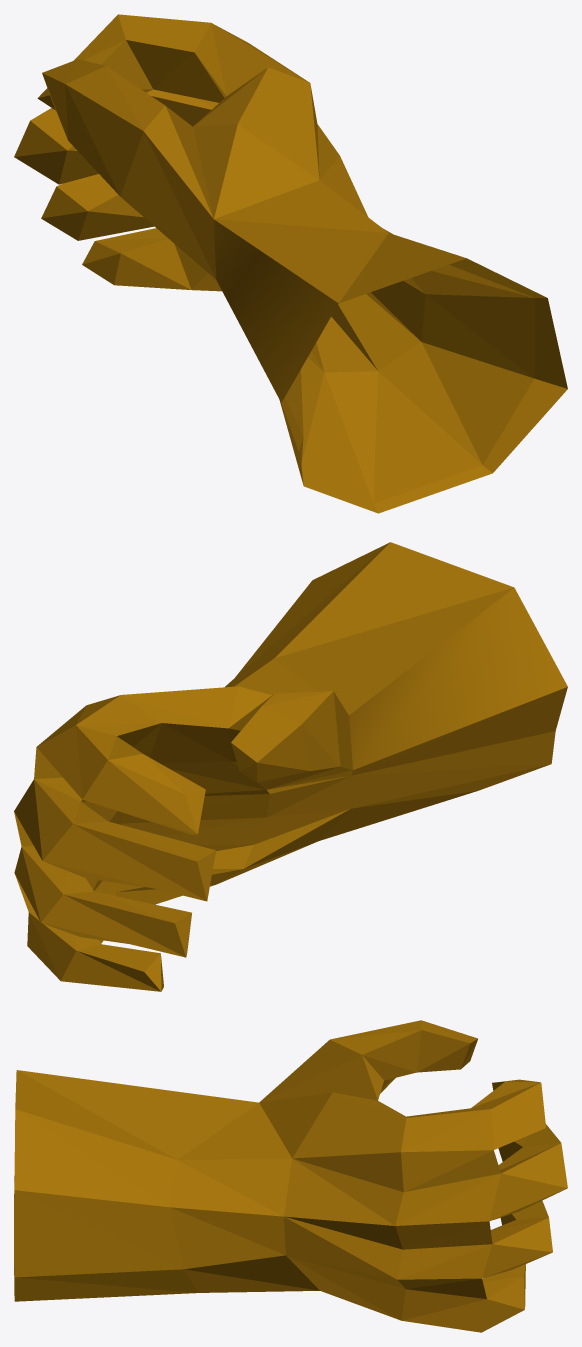
The model's file is CIMDS_001.FBX.
The picture shows the model from 3 angles, top to bottom: view 1: azimuth 30°, elevation 25°; view 2: azimuth 150°, elevation 25°; view 3: azimuth 270°, elevation 25°; orthographic projection. The views are drawn at different scales.
Parts seen in each view (by area): view 1: CIMDS_001; view 2: CIMDS_001; view 3: CIMDS_001.
Boxes of the visible parts, x1=… form: CIMDS_001: x1=14, y1=14, x2=567, y2=513; CIMDS_001: x1=14, y1=542, x2=567, y2=991; CIMDS_001: x1=14, y1=1020, x2=567, y2=1332.
Bounding box in the file's own units: 112 × 104 × 224.
